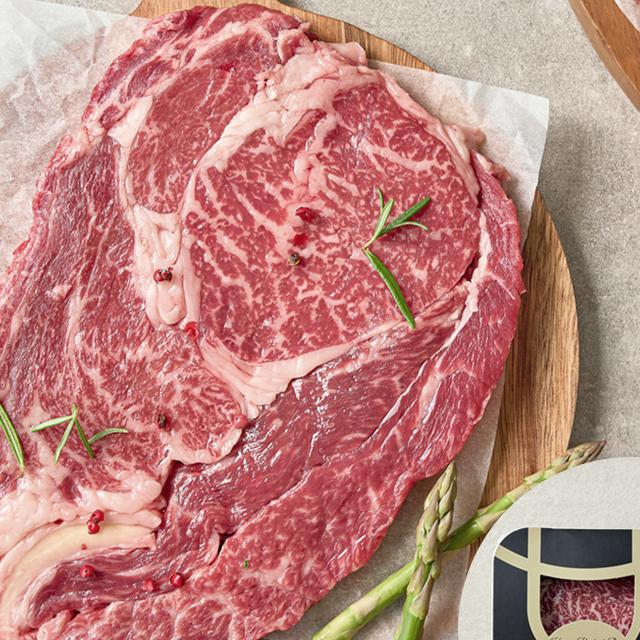beef: (64, 184, 382, 509)
